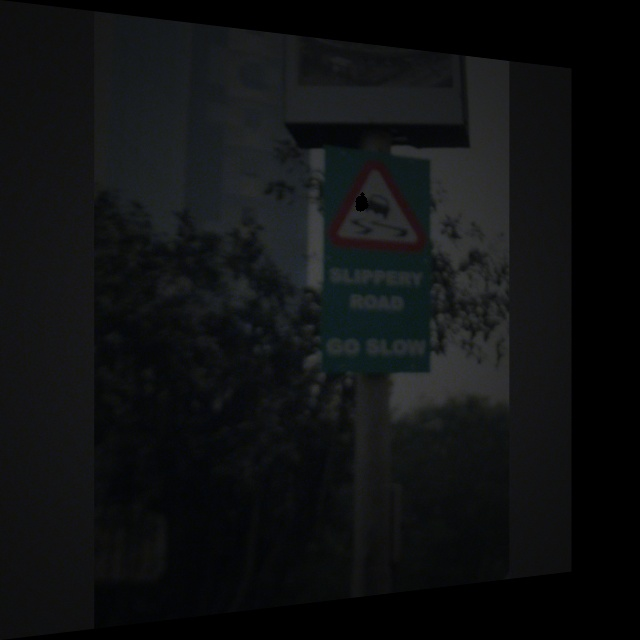Slippery_Road: (326, 158, 426, 252)
